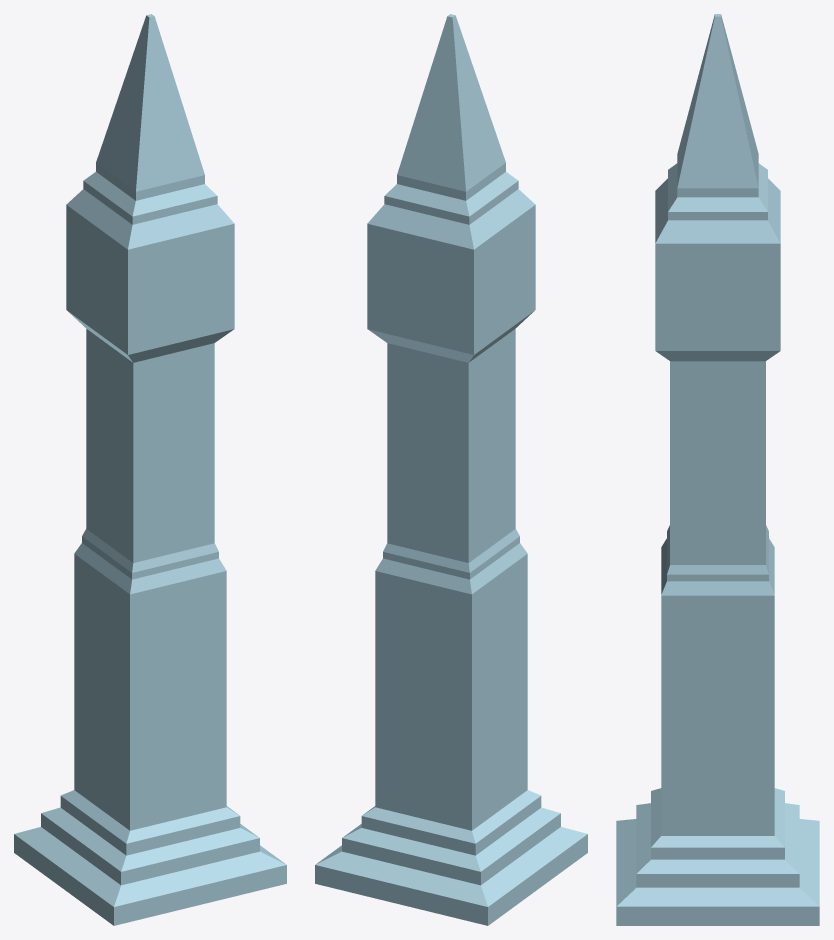
The model's file is ClockTower.fbx.
3 renders of one model, left to right at view 1: azimuth 30°, elevation 25°; view 2: azimuth 150°, elevation 25°; view 3: azimuth 270°, elevation 25°, orthographic.
Visible parts, largest first — view 1: Cube; view 2: Cube; view 3: Cube.
Boxes of the visible parts, box(x1,y1,x2,y2) form: Cube: box(14, 14, 286, 925); Cube: box(315, 14, 587, 925); Cube: box(616, 14, 819, 925).
Bounding box in the file's own units: 962 × 4528 × 962.
